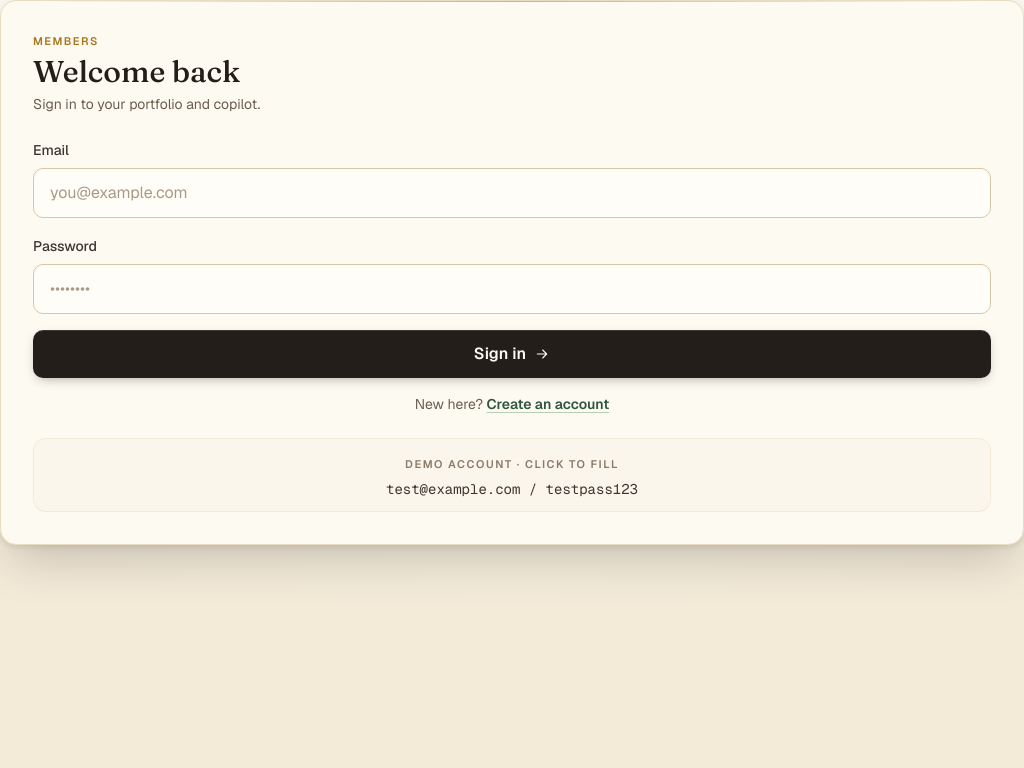
SignInCard › shows an error and stays on the page when the login is rejected
Type "a@b.com" into the field labelled "Email" at (512,192), box [33, 168, 991, 218]
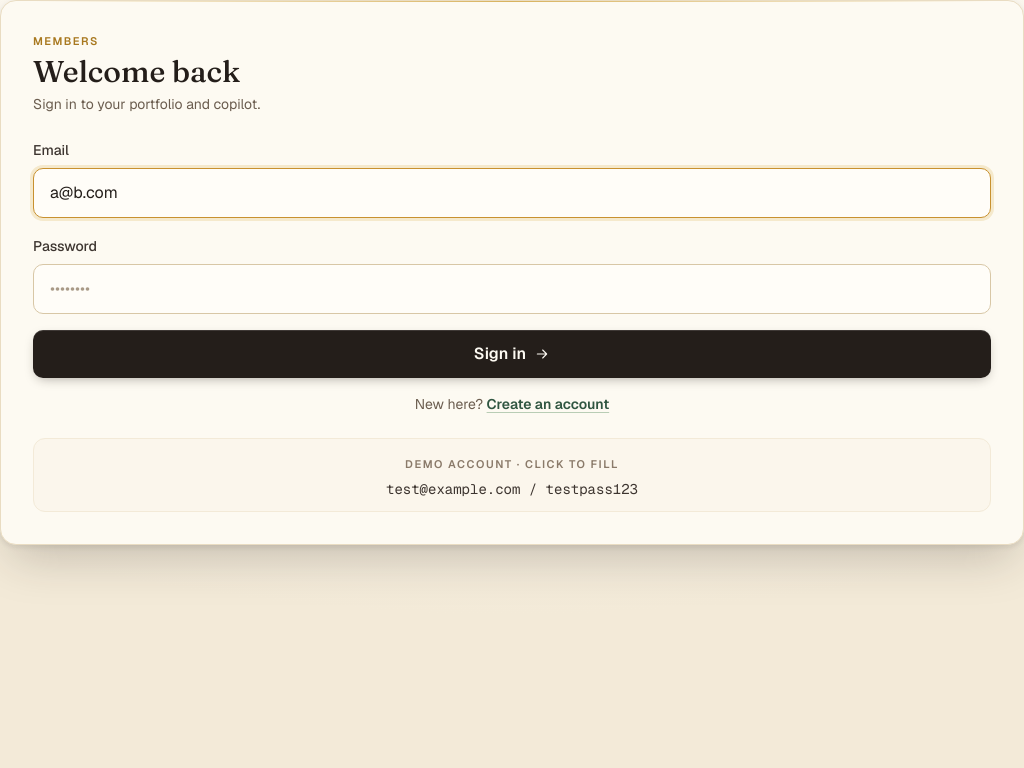
Type "wrong" into the password field labelled "Password" at (512,288), box [33, 264, 991, 314]
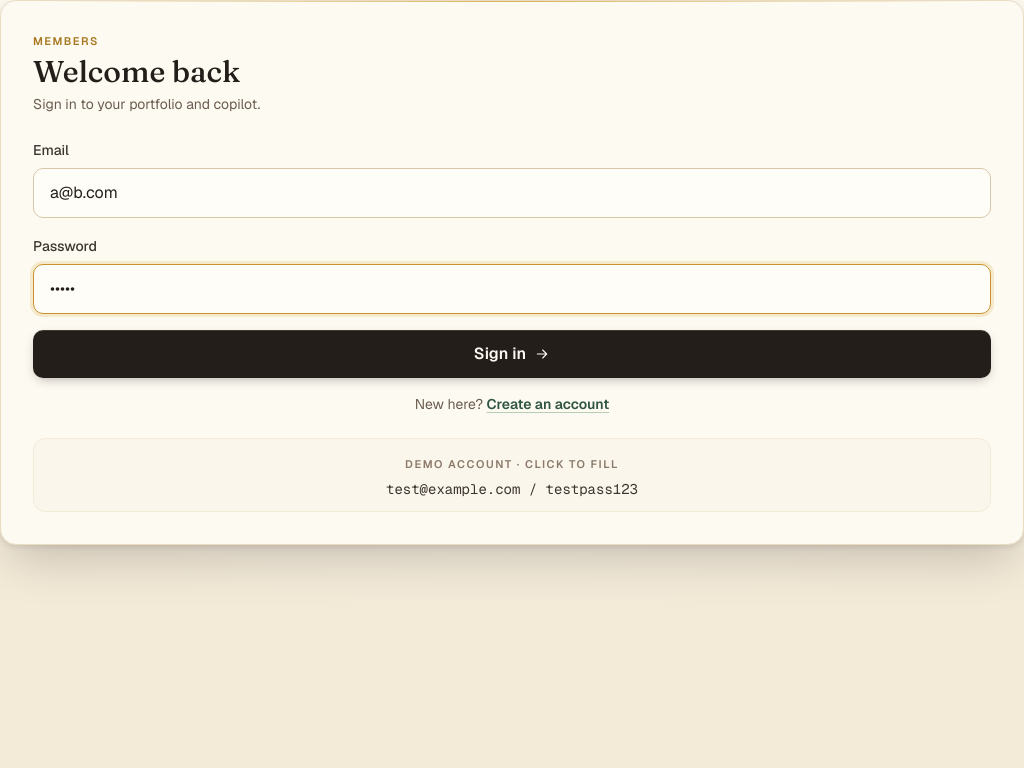
Click the button "Sign in" at (512,354), box [33, 330, 991, 378]
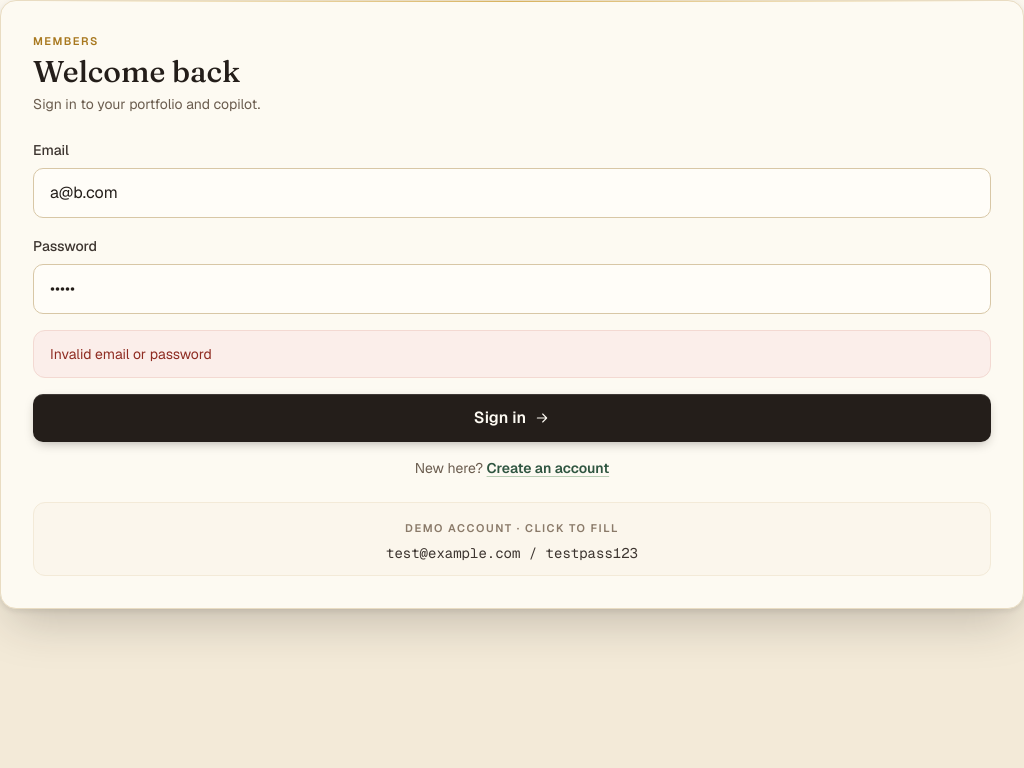
Check: the text "Invalid email or password" is shown, box [33, 330, 991, 378]
